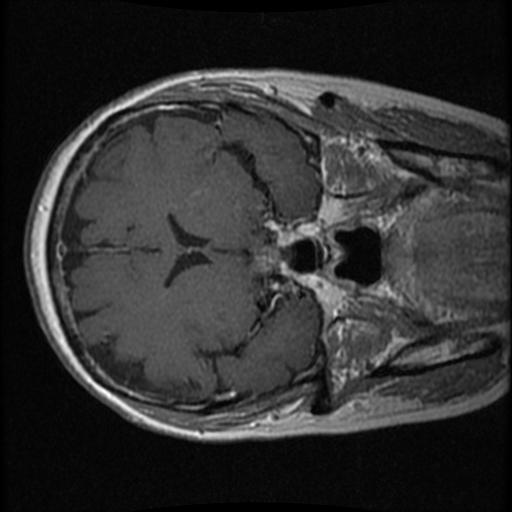pituitary tumour: (251, 244, 281, 276)
